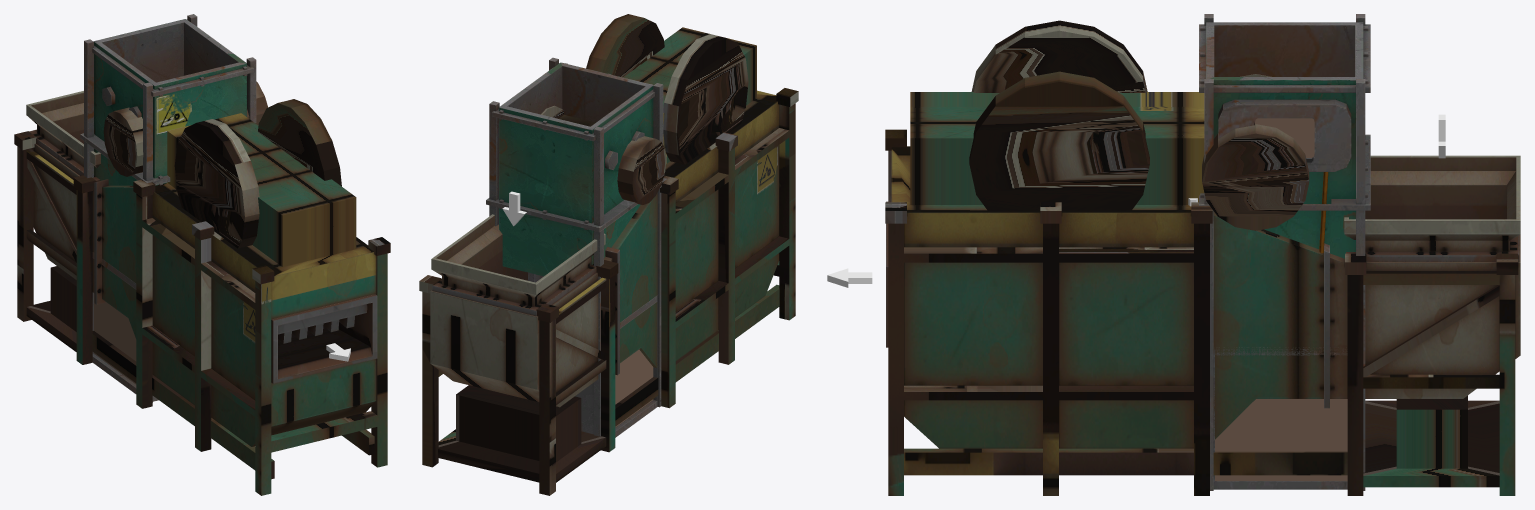
The model's file is HeavyCrusher.glb.
3 views of the same model, side by side, from view 1: azimuth 30°, elevation 25°; view 2: azimuth 150°, elevation 25°; view 3: azimuth 270°, elevation 25° (orthographic). The views are drawn at different scales.
Visible parts, largest first — view 1: Grinder_collission, HeavyCrusher, ClusterBreaker_Jaw; view 2: Grinder_collission, HeavyCrusher, ghostarrow (1); view 3: Grinder_collission, HeavyCrusher.
Boxes of the visible parts, x1=… form: Grinder_collission: x1=14, y1=81, x2=390, y2=495; HeavyCrusher: x1=80, y1=14, x2=256, y2=402; ClusterBreaker_Jaw: x1=278, y1=304, x2=367, y2=343; Grinder_collission: x1=419, y1=14, x2=798, y2=495; HeavyCrusher: x1=486, y1=57, x2=666, y2=450; ghostarrow (1): x1=502, y1=191, x2=526, y2=226; Grinder_collission: x1=885, y1=20, x2=1520, y2=495; HeavyCrusher: x1=1188, y1=14, x2=1370, y2=490.
Size of the model in its own units: 1.26 by 2.86 by 4.41.
Materials: 6 (4 with a texture image).
